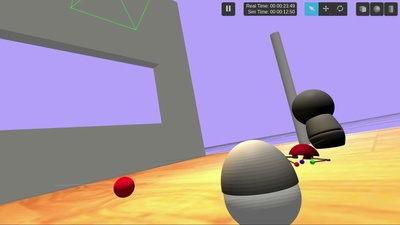mira_robot: (221, 140, 302, 225)
